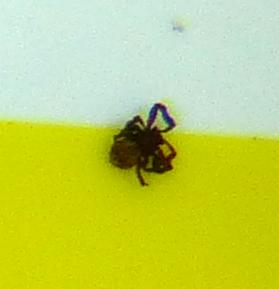Araneae: (100, 100, 179, 189)
